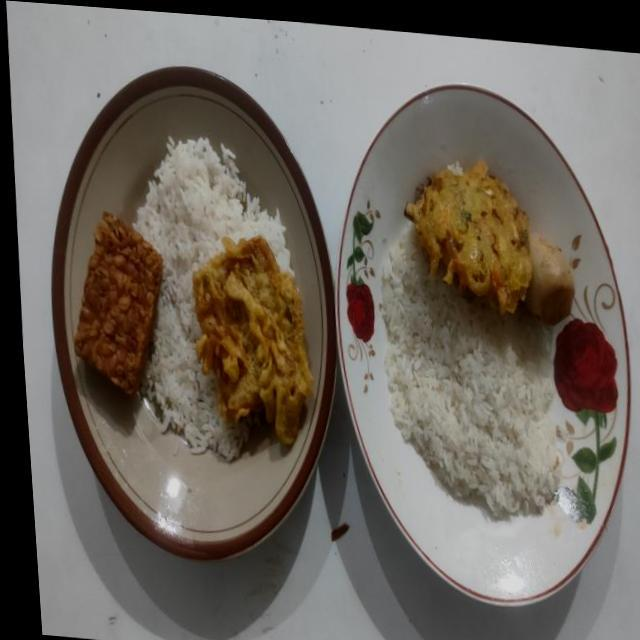nasi_putih: (132, 137, 293, 460), (381, 228, 558, 518)
tempe_goreng: (73, 211, 162, 394)
